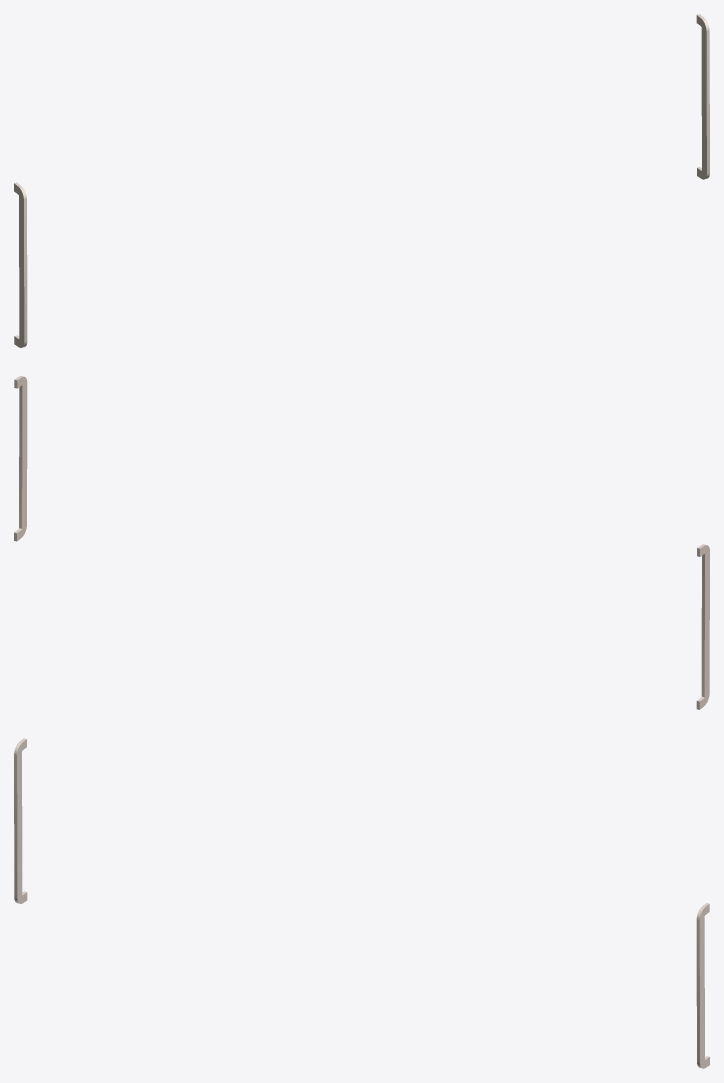
File: MeshRobothorDeskAlve_0_GeomSubset_1.obj
3 views of the same model, one above another, from view 1: azimuth 30°, elevation 25°; view 2: azimuth 150°, elevation 25°; view 3: azimuth 330°, elevation 25° (orthographic).
Visible parts, largest first — view 1: MeshRobothorDeskAlve_0_GeomSubset_1; view 2: MeshRobothorDeskAlve_0_GeomSubset_1; view 3: MeshRobothorDeskAlve_0_GeomSubset_1.
Boxes of the visible parts, left/top/right/bottom form: MeshRobothorDeskAlve_0_GeomSubset_1: left=14, top=14, right=709, bottom=347; MeshRobothorDeskAlve_0_GeomSubset_1: left=14, top=376, right=709, bottom=709; MeshRobothorDeskAlve_0_GeomSubset_1: left=14, top=738, right=709, bottom=1068.
Bounding box in the file's own units: 0.7786 × 0.1769 × 0.0195.
